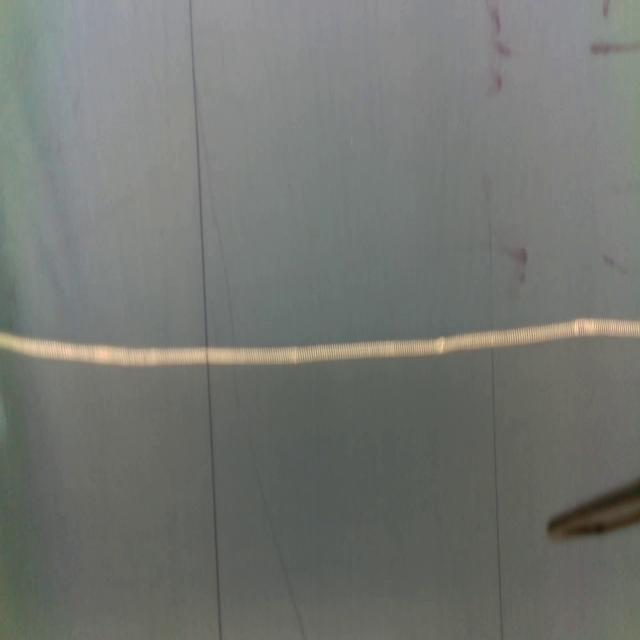crease: (188, 0, 222, 640), (257, 467, 305, 640), (490, 346, 504, 640)
